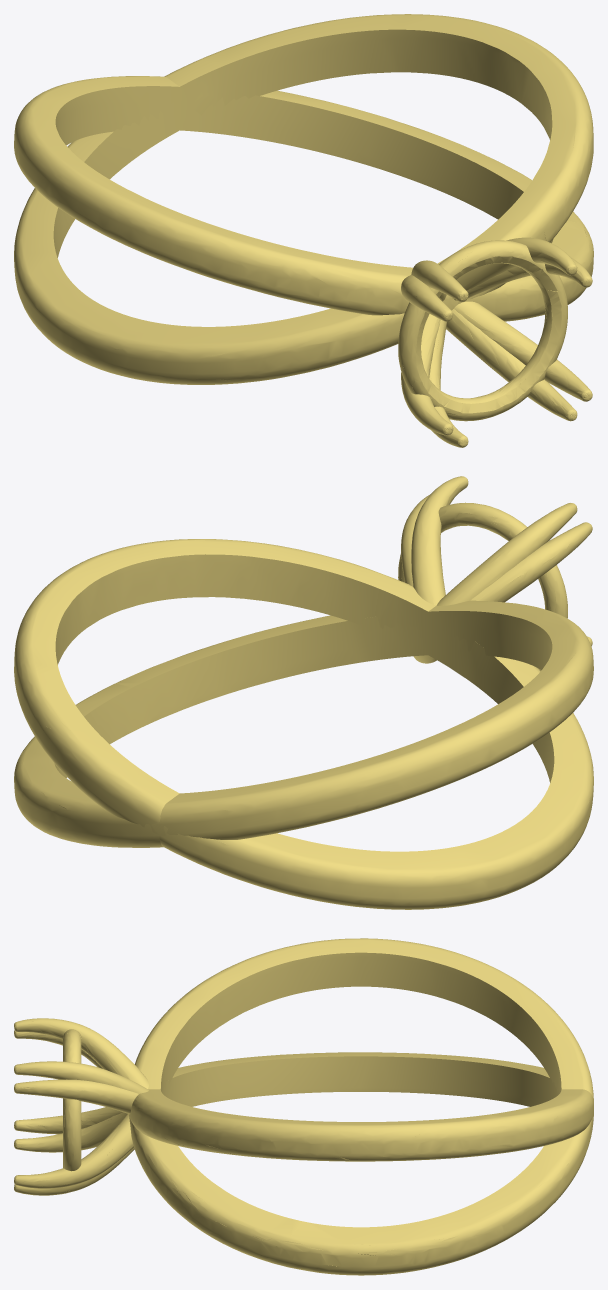
3 views of the same model, one above another, from view 1: azimuth 30°, elevation 25°; view 2: azimuth 150°, elevation 25°; view 3: azimuth 270°, elevation 25° (orthographic). The views are drawn at different scales.
Visible parts, largest first — view 1: lr-0021; view 2: lr-0021; view 3: lr-0021.
Part boxes in pixels (x1=…): lr-0021: x1=14, y1=14, x2=593, y2=447; lr-0021: x1=14, y1=476, x2=593, y2=909; lr-0021: x1=14, y1=938, x2=593, y2=1275.
Size of the model in its own units: 0.8077 by 0.283 by 1.
